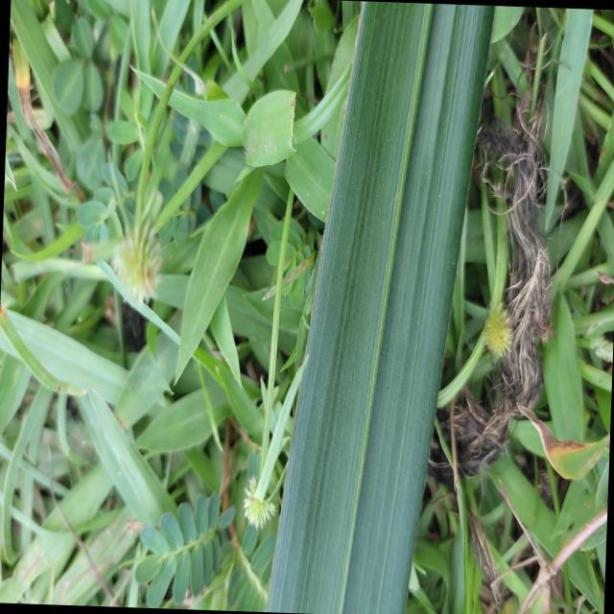Healthy: (266, 1, 492, 614)
